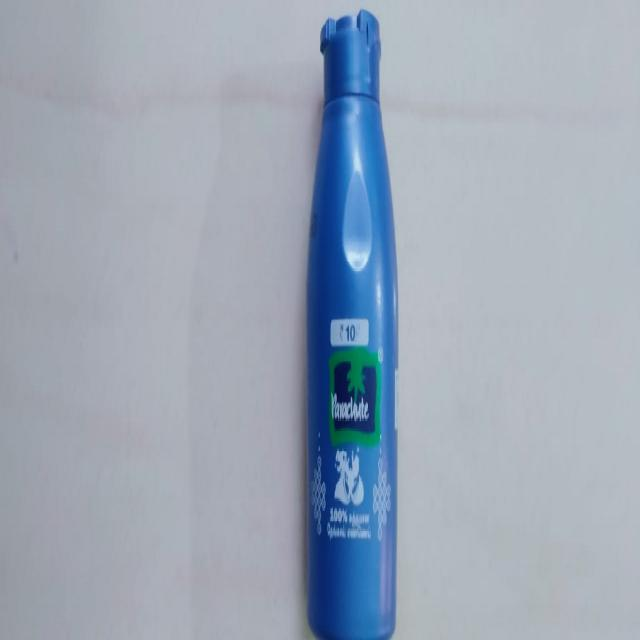oil: (306, 8, 399, 640)
